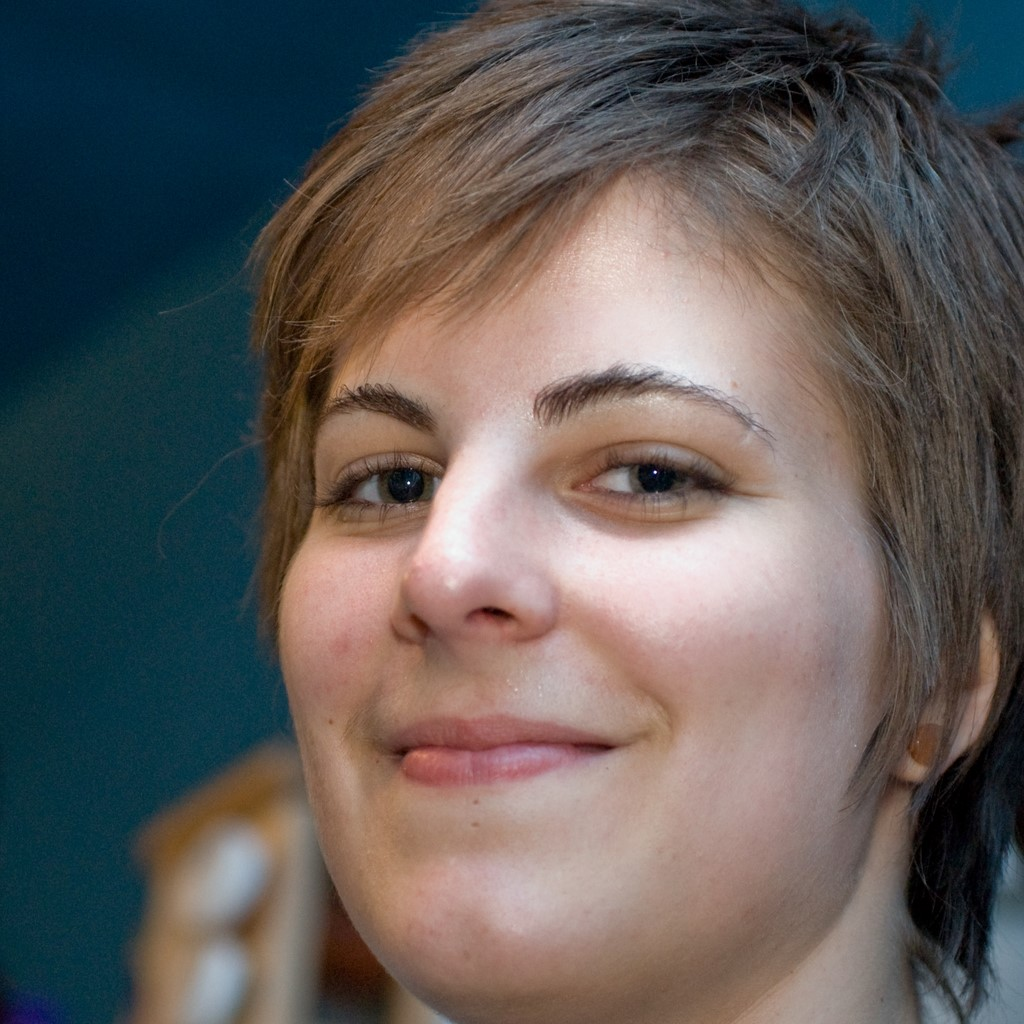sin_mascara: (247, 151, 902, 1009)
